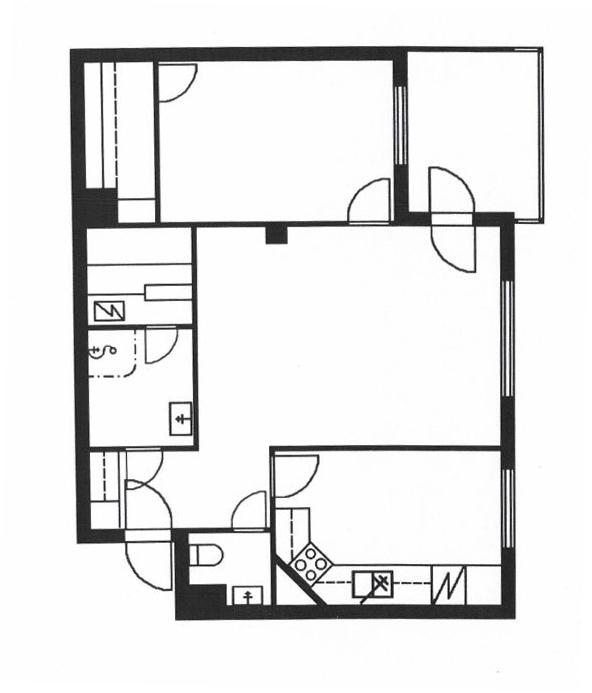bathroom: (185, 530, 272, 602)
door: (426, 212, 481, 280), (120, 530, 176, 596), (122, 478, 176, 543), (425, 162, 477, 224), (264, 451, 323, 497), (342, 174, 390, 226), (122, 444, 167, 493), (151, 59, 201, 103), (229, 487, 271, 534), (140, 323, 181, 364)
perimeter: (69, 41, 520, 625)
window: (498, 273, 520, 407), (495, 460, 522, 560), (390, 80, 413, 170)
